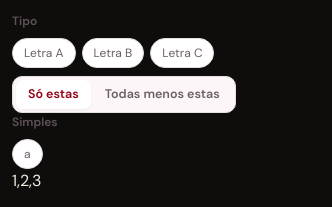
Test: FilterFacets › a faceta excludable oferece "Só estas / Todas menos estas"; a comum não
Check: the element named "Modo: Tipo" is shown, box left=12, top=76, right=236, bottom=113
Click the button "Letra B" at (113, 53), box left=82, top=38, right=144, bottom=68
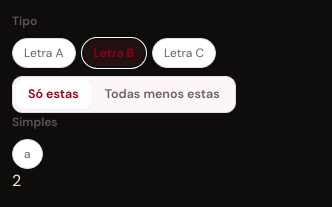
Check: the text named "ids" reads "2", box left=12, top=170, right=21, bottom=191
Click the button "Todas menos estas" at (162, 94), box left=93, top=80, right=232, bottom=109
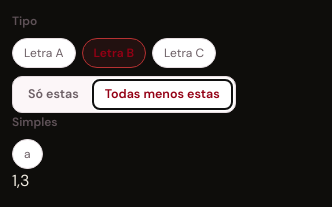
Check: the text named "ids" reads "1,3", box left=12, top=170, right=29, bottom=191
